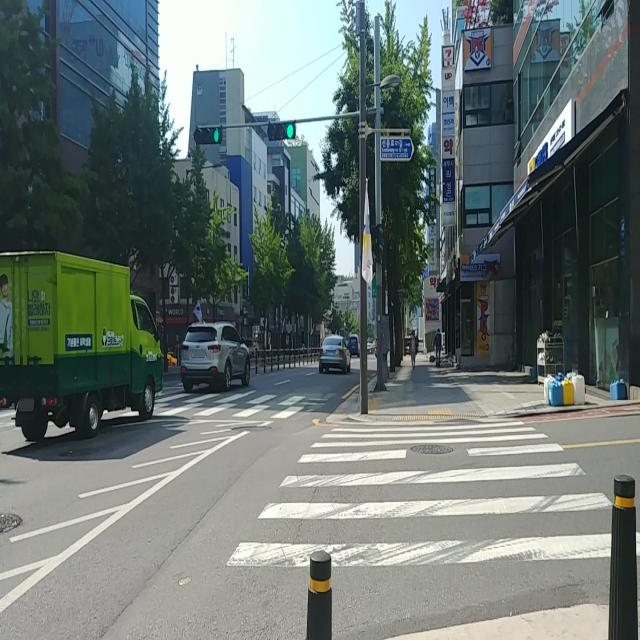횡단보도: (224, 418, 640, 640), (149, 390, 318, 420)
